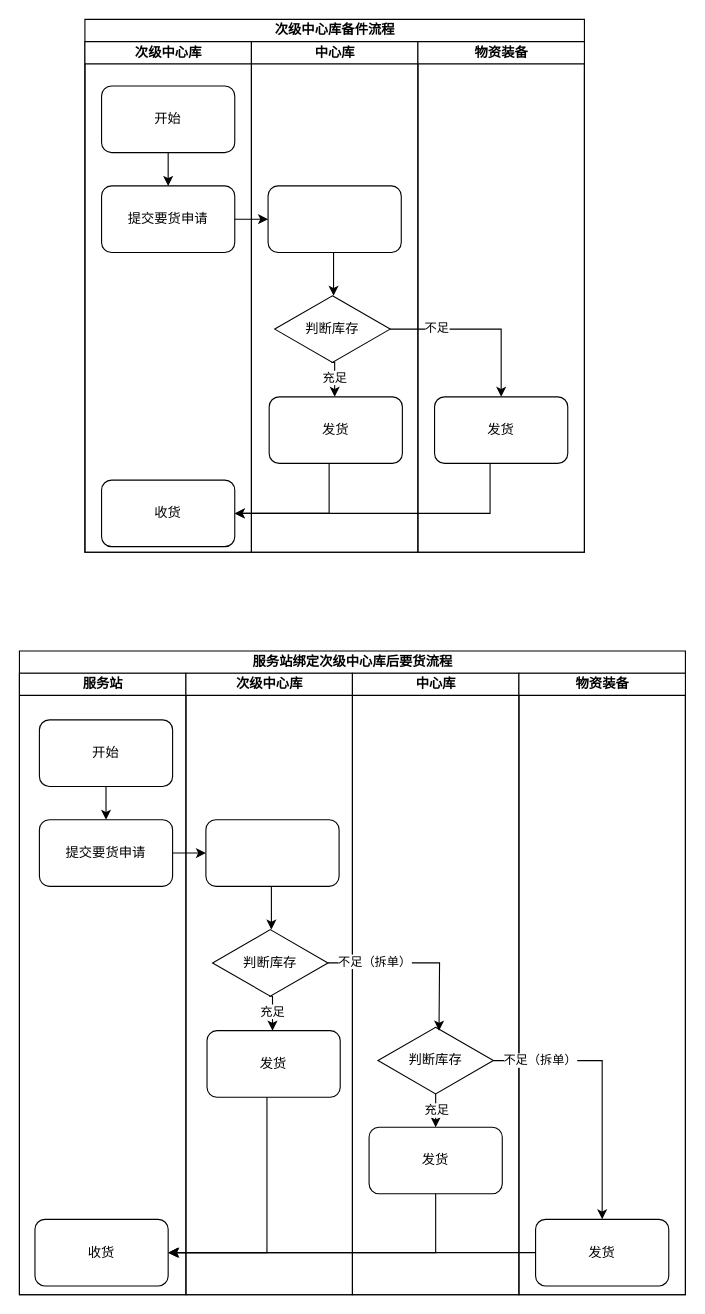
Image size: 705x1314. Some labels were removed from this diagram. The centre of each missing label's shape, as x and y in pixels:
"中心库审核通过" goes at pixel 334 219.
"次级中心库审核通过" goes at pixel 272 852.
